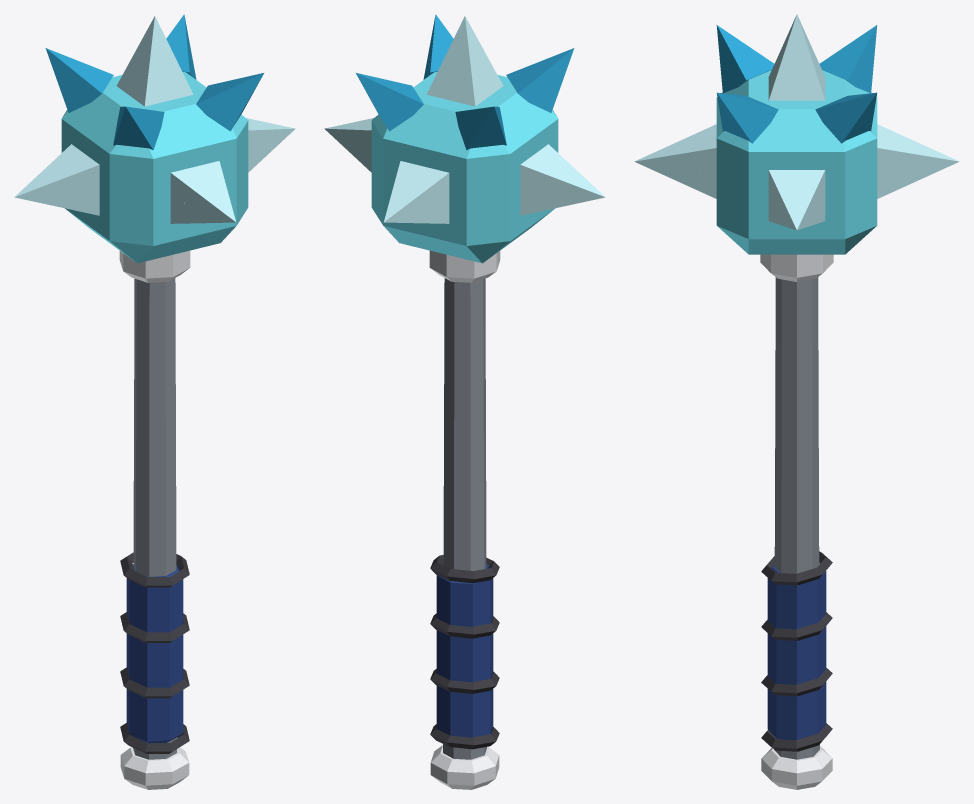
Rendered from DiamondMace.fbx.
3 renders of one model, left to right at view 1: azimuth 30°, elevation 25°; view 2: azimuth 150°, elevation 25°; view 3: azimuth 270°, elevation 25°, orthographic.
Parts seen in each view (by area): view 1: DiamondMace; view 2: DiamondMace; view 3: DiamondMace.
Boxes of the visible parts, left/top/right/bottom form: DiamondMace: left=14, top=14, right=295, bottom=789; DiamondMace: left=324, top=14, right=605, bottom=789; DiamondMace: left=634, top=14, right=959, bottom=789.
Size of the model in its own units: 1.42 by 3.68 by 1.42.
1 material, 1 textured.
